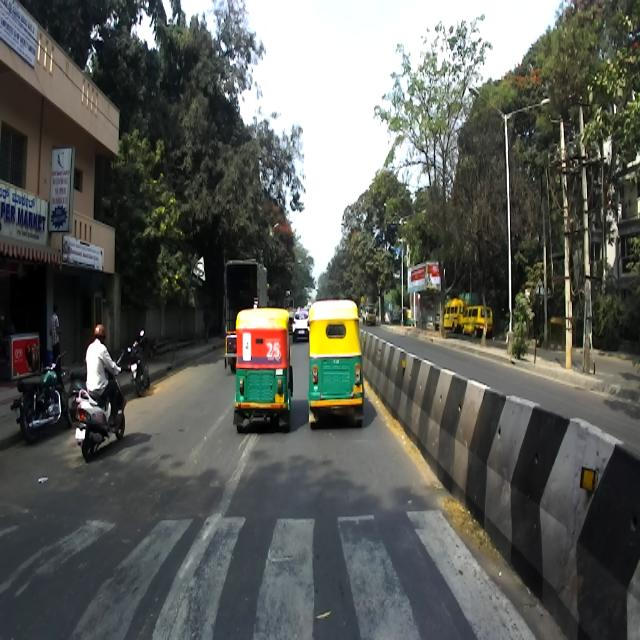auto ahead at: (302, 303, 369, 428), (232, 304, 292, 438)
motorcycle ahead at: (16, 345, 71, 446), (72, 379, 128, 467)
